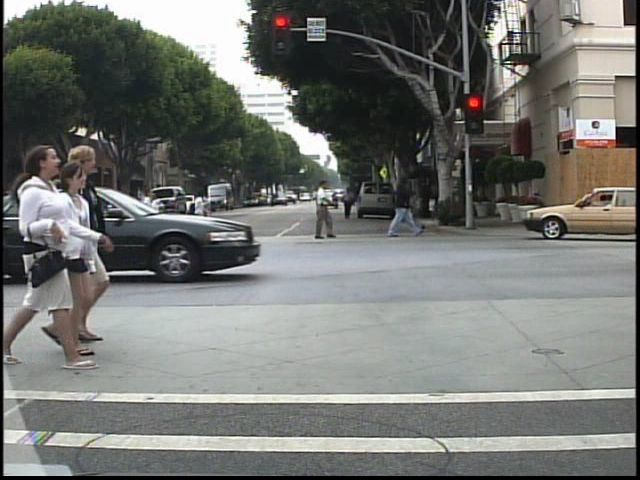person: (4, 144, 87, 375), (30, 163, 107, 365), (65, 146, 129, 350), (383, 167, 425, 240), (309, 176, 336, 240), (137, 188, 162, 251), (86, 189, 111, 246), (189, 185, 212, 243), (79, 183, 97, 247), (340, 184, 356, 220)
